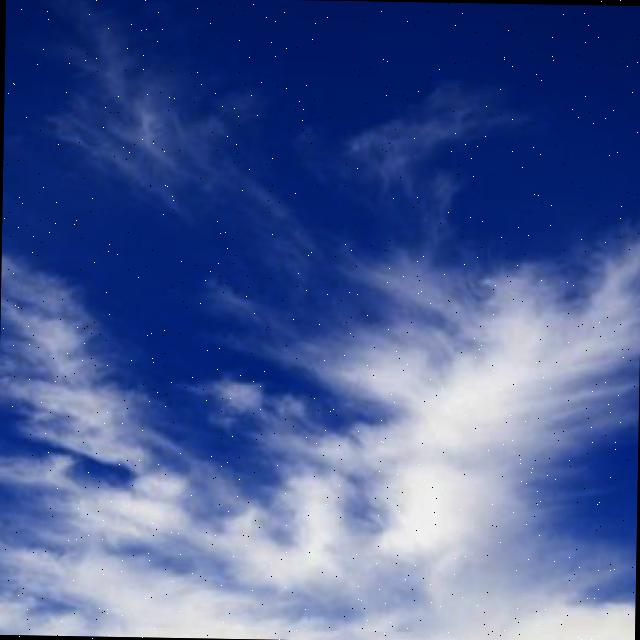Cs: (1, 189, 640, 640)
